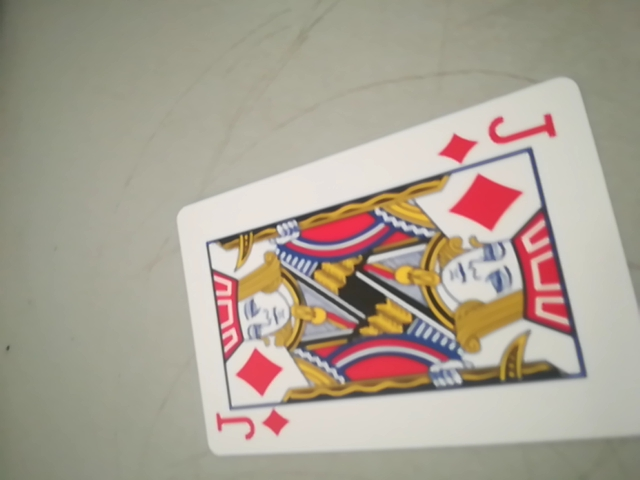fk j: (430, 102, 564, 166), (212, 401, 293, 454)
